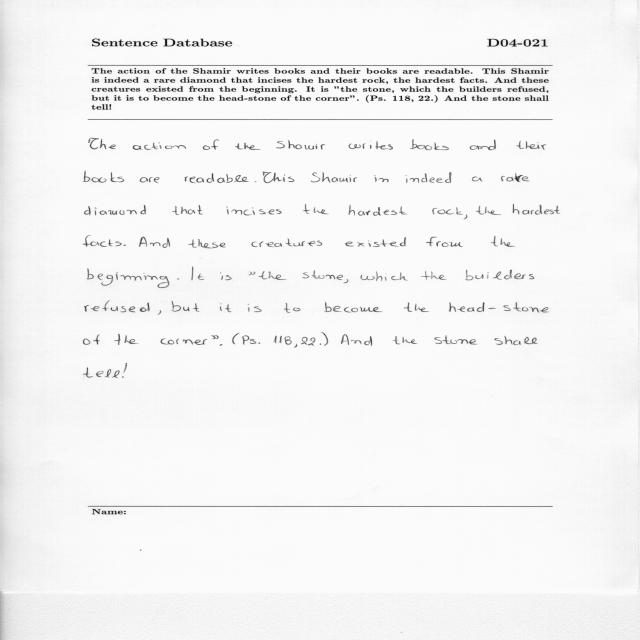word: (88, 268, 170, 288), (449, 302, 549, 313), (84, 301, 150, 312), (465, 270, 534, 280), (84, 205, 146, 216), (184, 173, 249, 183), (349, 205, 407, 216), (344, 237, 406, 247), (325, 302, 383, 312), (251, 239, 323, 247), (513, 204, 560, 215), (311, 172, 357, 183), (406, 172, 452, 183), (226, 207, 282, 216), (83, 171, 124, 183), (277, 140, 326, 150), (361, 272, 408, 282), (83, 235, 122, 247), (410, 139, 449, 150), (133, 142, 186, 150), (302, 270, 343, 280), (83, 367, 120, 378), (348, 141, 393, 150), (434, 336, 477, 345), (495, 336, 538, 345), (139, 236, 170, 248), (341, 334, 372, 346), (426, 237, 463, 247), (263, 172, 295, 183), (188, 239, 226, 248), (161, 338, 207, 345), (172, 205, 203, 215), (172, 301, 200, 312), (89, 138, 116, 149), (470, 140, 496, 151), (114, 334, 139, 345), (517, 141, 547, 150), (491, 236, 515, 247), (303, 204, 329, 214), (501, 173, 529, 182), (404, 302, 429, 312), (432, 207, 463, 215), (259, 271, 286, 280), (421, 271, 446, 280), (476, 206, 500, 215), (392, 336, 417, 344), (84, 334, 101, 345), (242, 335, 260, 345), (203, 139, 219, 150), (235, 143, 260, 150), (284, 303, 301, 313), (192, 267, 205, 280), (274, 336, 292, 345), (301, 337, 316, 346), (140, 177, 160, 183), (220, 303, 232, 312), (374, 176, 389, 183), (248, 304, 261, 312), (220, 273, 232, 281), (322, 332, 328, 346), (232, 333, 239, 344), (122, 363, 127, 378), (472, 177, 482, 182), (212, 335, 219, 339), (249, 272, 256, 275), (344, 279, 349, 283), (464, 215, 468, 219), (158, 310, 161, 315), (294, 344, 297, 348), (220, 344, 223, 346), (177, 278, 179, 280), (124, 245, 126, 246), (320, 343, 321, 345), (255, 181, 256, 182)
